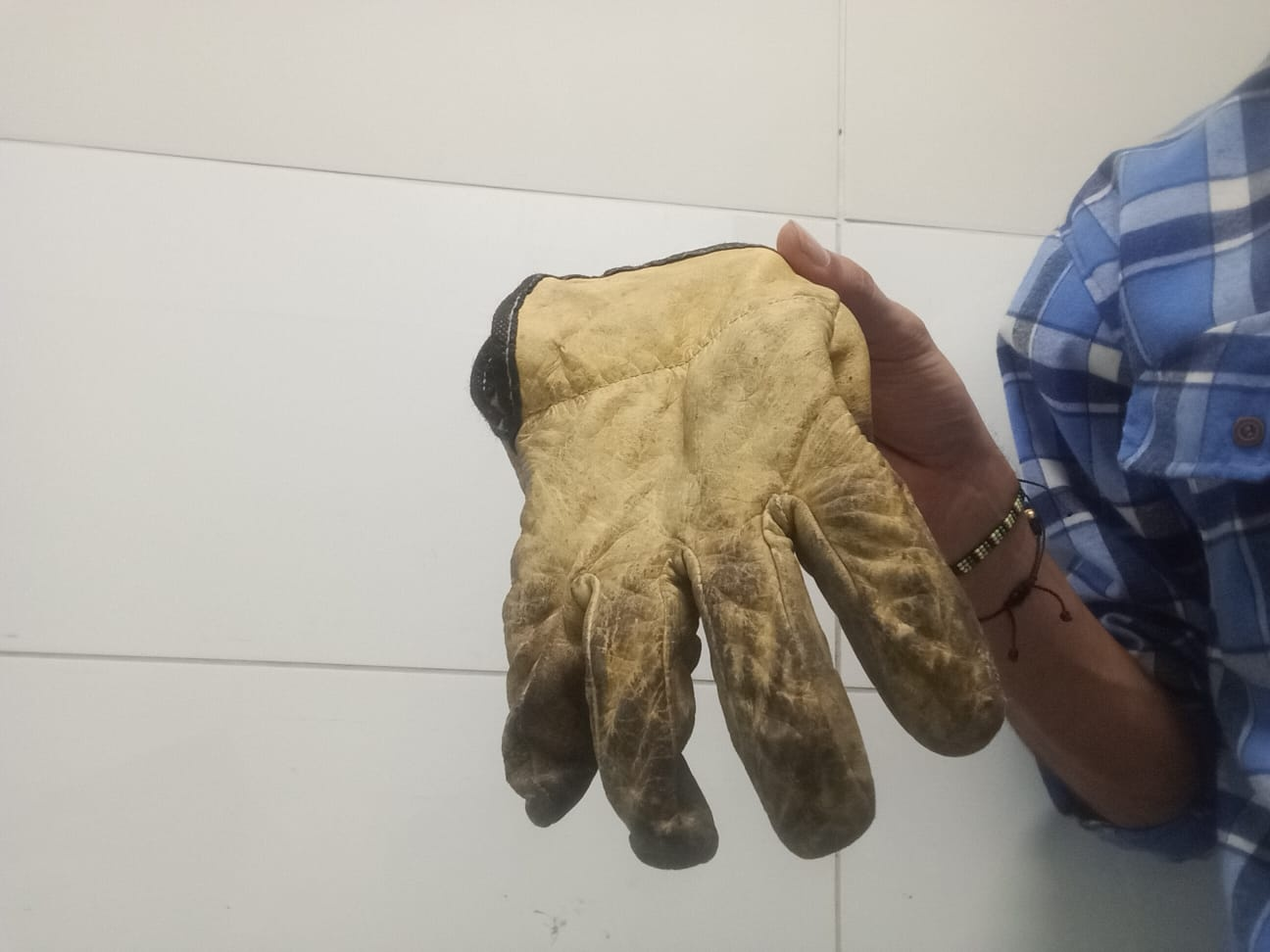Ordinario: (469, 244, 1008, 871)
